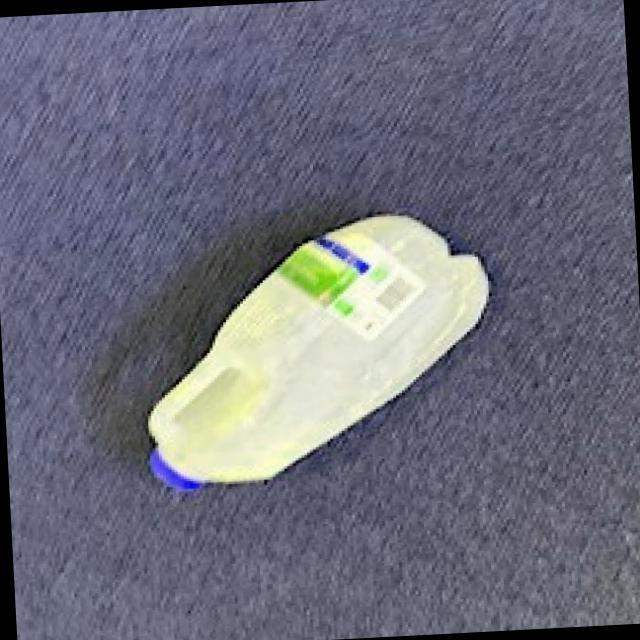HDPE Plastic: (144, 212, 494, 494)
